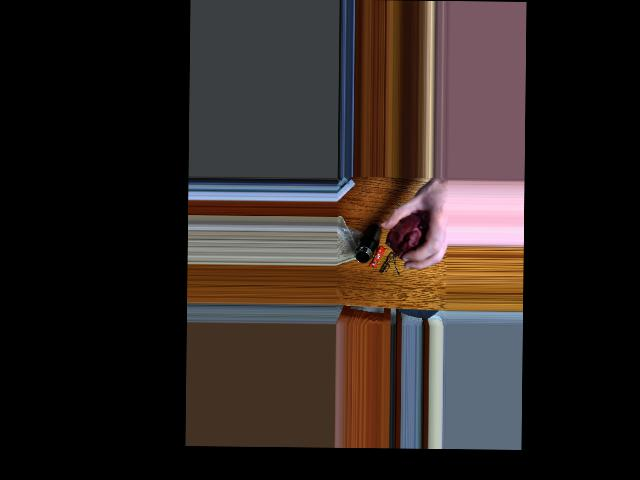onion: (391, 211, 429, 259)
